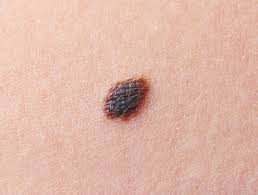Normal: (103, 77, 150, 121)
